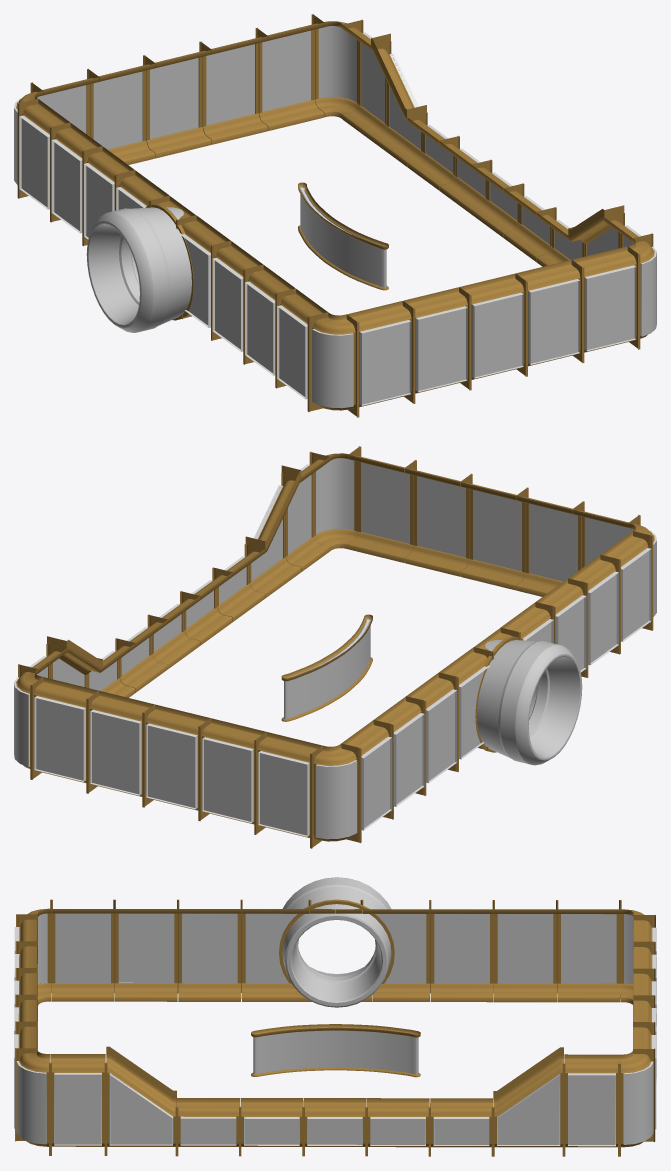
The model's file is SmallBuildingInterior_Fixed4.fbx.
The picture shows the model from 3 angles, top to bottom: view 1: azimuth 30°, elevation 25°; view 2: azimuth 150°, elevation 25°; view 3: azimuth 270°, elevation 25°; orthographic projection. The views are drawn at different scales.
Parts seen in each view (by area): view 1: Cube.033; view 2: Cube.033; view 3: Cube.033.
Boxes of the visible parts, <box> form: Cube.033: <box>14,14,656,417</box>; Cube.033: <box>14,446,656,848</box>; Cube.033: <box>14,877,656,1156</box>.
Bounding box in the file's own units: 8143 × 2299 × 11777.
